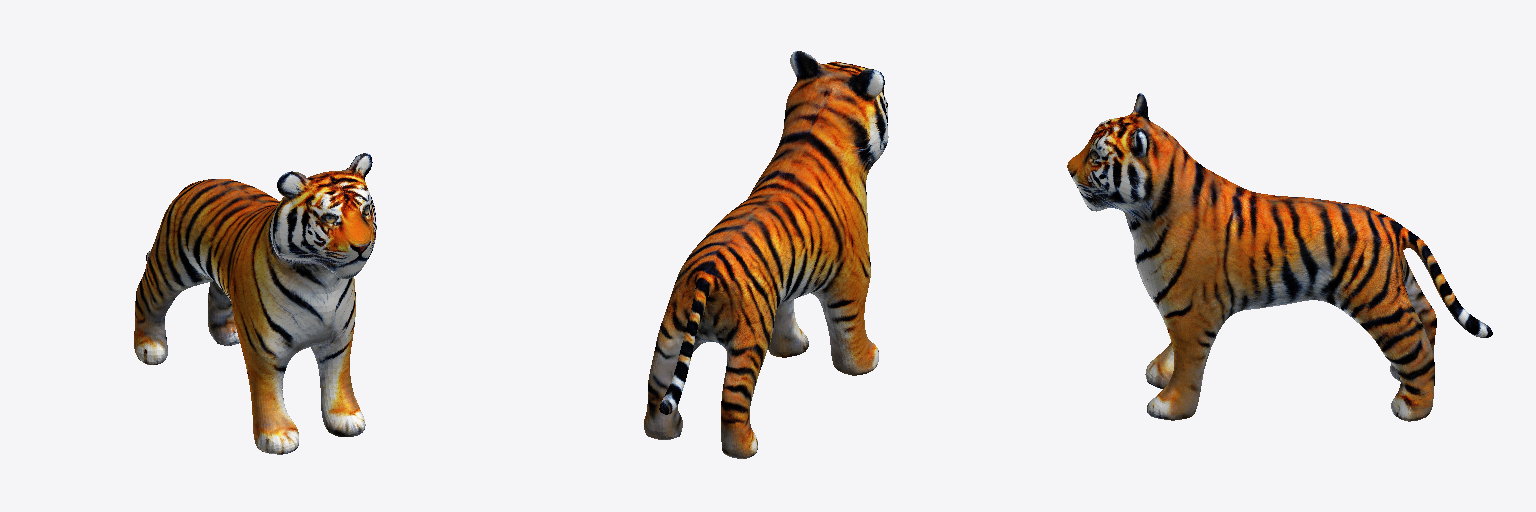
3 views of the same model, side by side, from view 1: azimuth 30°, elevation 25°; view 2: azimuth 150°, elevation 25°; view 3: azimuth 270°, elevation 25° (orthographic).
Visible parts, largest first — view 1: Tiger_Quad; view 2: Tiger_Quad; view 3: Tiger_Quad.
Boxes of the visible parts, <box> form: Tiger_Quad: <box>134,153,376,454</box>; Tiger_Quad: <box>644,51,888,458</box>; Tiger_Quad: <box>1067,93,1492,421</box>.
Bounding box in the file's own units: 0.5183 × 1.33 × 1.78.
1 materials, 1 textured.